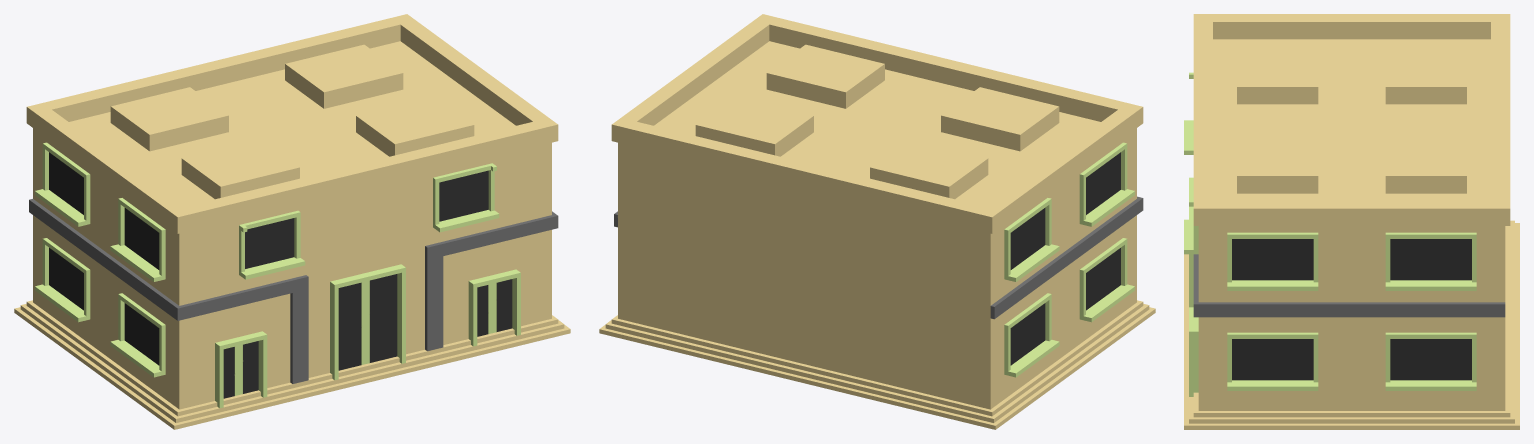
The model's file is Building_8.fbx.
3 renders of one model, left to right at view 1: azimuth 30°, elevation 25°; view 2: azimuth 150°, elevation 25°; view 3: azimuth 270°, elevation 25°, orthographic. The views are drawn at different scales.
Parts seen in each view (by area): view 1: Building_8; view 2: Building_8; view 3: Building_8.
Boxes of the visible parts, x1,y1,x2,y2 form: Building_8: (14,14,570,429); Building_8: (599,14,1155,429); Building_8: (1184,14,1519,429).
Bounding box in the file's own units: 100 × 50 × 70.
Materials: 1 (1 with a texture image).
